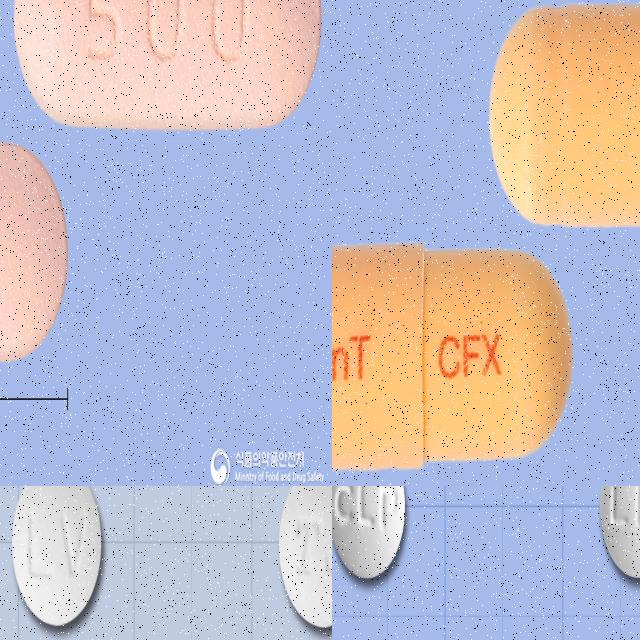Liflocin: (14, 0, 323, 129), (0, 141, 68, 364)
Luarva - 20mg: (332, 486, 408, 580), (600, 486, 640, 581)
NT-fixime Cap: (332, 242, 573, 471), (488, 2, 640, 231)
Taiguk Ciprofloxacin HCl Tab: (11, 486, 102, 625), (279, 486, 332, 628)
